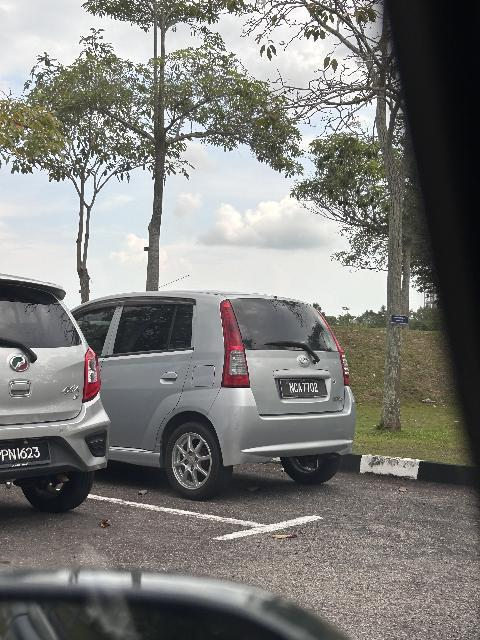License_Plate: (277, 377, 336, 402)
MCA7702: (277, 377, 336, 402)
car: (62, 287, 363, 507)
